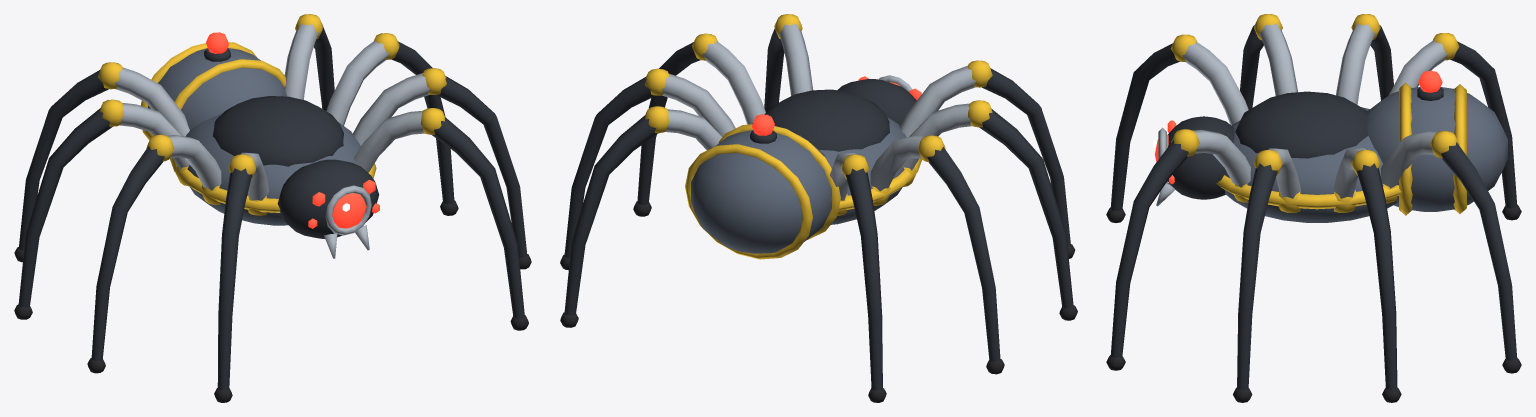
Rendered from npc_spider_bot.glb.
The picture shows the model from 3 angles, left to right: view 1: azimuth 30°, elevation 25°; view 2: azimuth 150°, elevation 25°; view 3: azimuth 270°, elevation 25°; orthographic projection. The views are drawn at different scales.
Visible parts, largest first — view 1: Body, Head, LegR1, LegL2, LegL3, LegR2, LegL4, LegL1, LegR3, LegR4; view 2: Body, LegL3, LegL2, LegR4, LegR3, LegL1, LegL4, LegR2, LegR1, Head; view 3: Body, LegR1, LegR4, LegL1, LegR3, LegR2, LegL4, Head, LegL3, LegL2.
Part boxes in pixels (x1=…): Body: x1=140, y1=32, x2=376, y2=225; Head: x1=277, y1=159, x2=379, y2=258; LegR1: x1=353, y1=108, x2=528, y2=330; LegL2: x1=87, y1=134, x2=221, y2=373; LegL3: x1=14, y1=99, x2=189, y2=319; LegR2: x1=353, y1=68, x2=531, y2=269; LegL4: x1=14, y1=62, x2=189, y2=262; LegL1: x1=214, y1=152, x2=269, y2=402; LegR3: x1=326, y1=33, x2=458, y2=215; LegR4: x1=284, y1=14, x2=334, y2=110; Body: x1=685, y1=89, x2=921, y2=259; LegL3: x1=870, y1=135, x2=1004, y2=374; LegL2: x1=902, y1=100, x2=1077, y2=320; LegR4: x1=560, y1=106, x2=722, y2=327; LegR3: x1=560, y1=68, x2=735, y2=269; LegL1: x1=899, y1=60, x2=1075, y2=258; LegL4: x1=830, y1=153, x2=886, y2=402; LegR2: x1=633, y1=33, x2=765, y2=216; LegR1: x1=764, y1=14, x2=813, y2=111; Head: x1=837, y1=75, x2=921, y2=126; Body: x1=1216, y1=70, x2=1507, y2=222; LegR1: x1=1106, y1=129, x2=1250, y2=370; LegR4: x1=1381, y1=131, x2=1521, y2=373; LegL1: x1=1106, y1=34, x2=1248, y2=222; LegR3: x1=1333, y1=148, x2=1401, y2=402; LegR2: x1=1233, y1=148, x2=1300, y2=402; LegL4: x1=1389, y1=33, x2=1521, y2=220; Head: x1=1153, y1=116, x2=1234, y2=206; LegL3: x1=1336, y1=14, x2=1393, y2=104; LegL2: x1=1240, y1=14, x2=1297, y2=109.
Size of the model in its own units: 1.06 by 0.505 by 0.8444.
